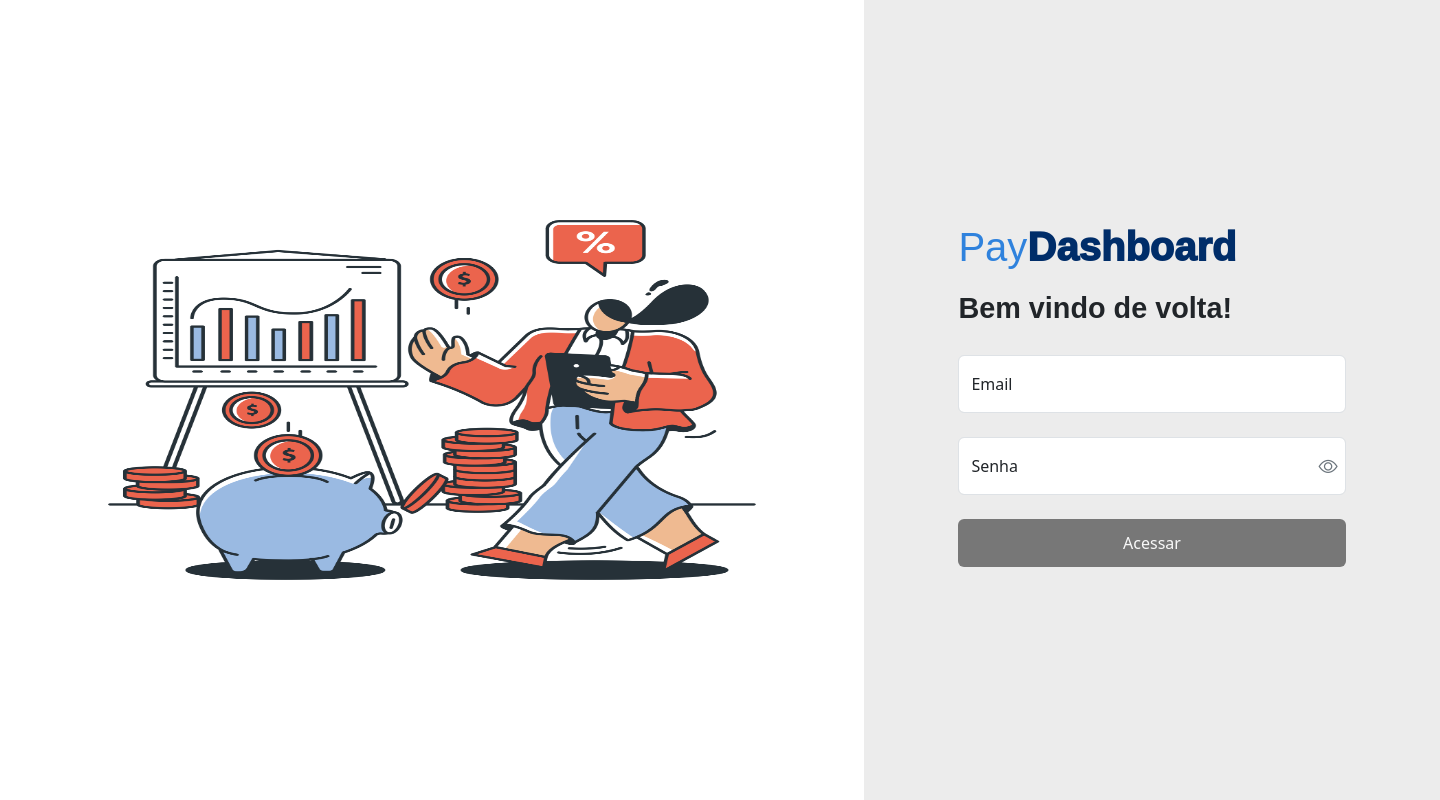
Login Page › should show error 500 message if server request fail
The width and height of the screenshot is (1440, 800).
Step 1. Type "teste@teste.com" into the field named "email" → (1152, 384), box [958,355,1345,413]
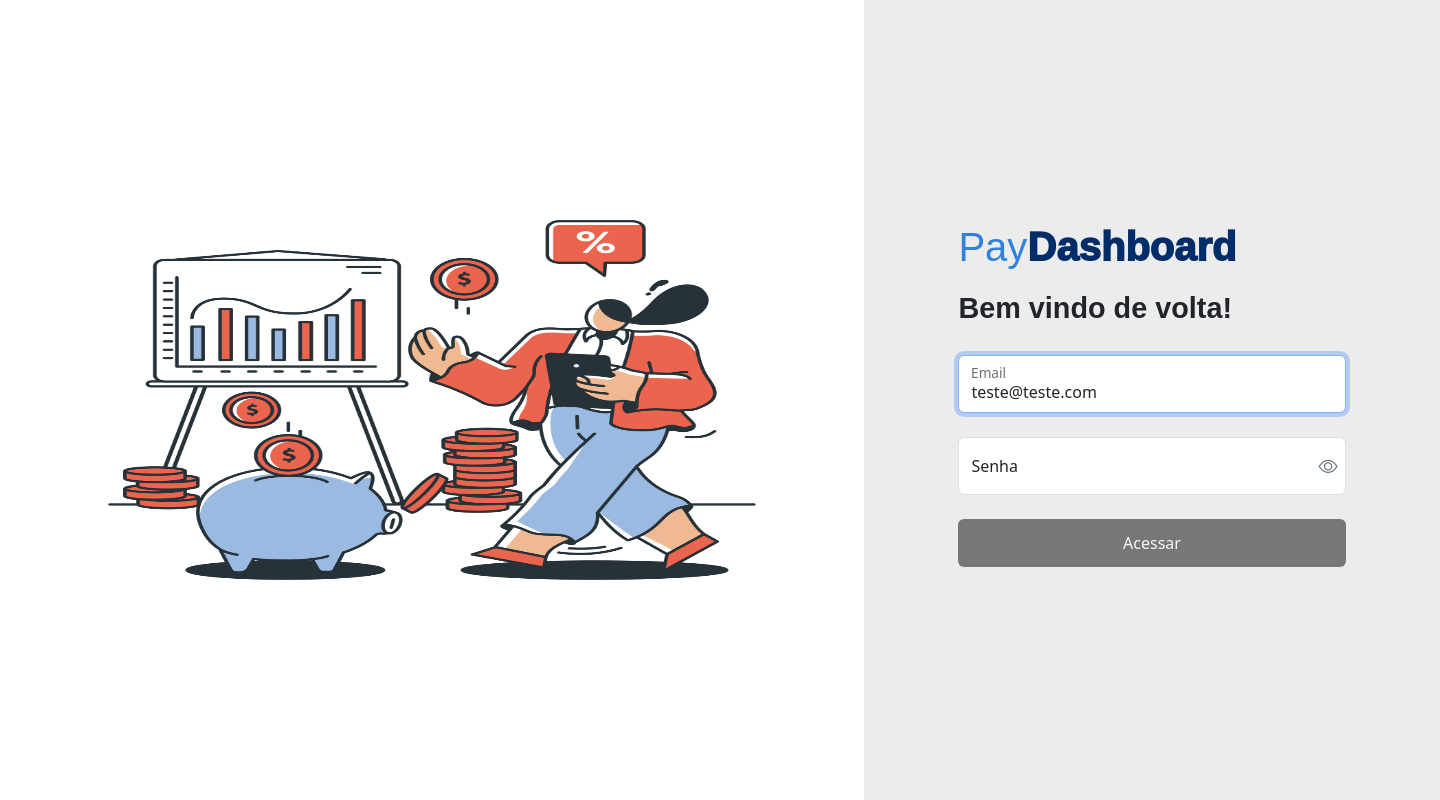
Step 2. Type "testpassword123" into the password field named "password" → (1152, 466), box [958,437,1345,495]
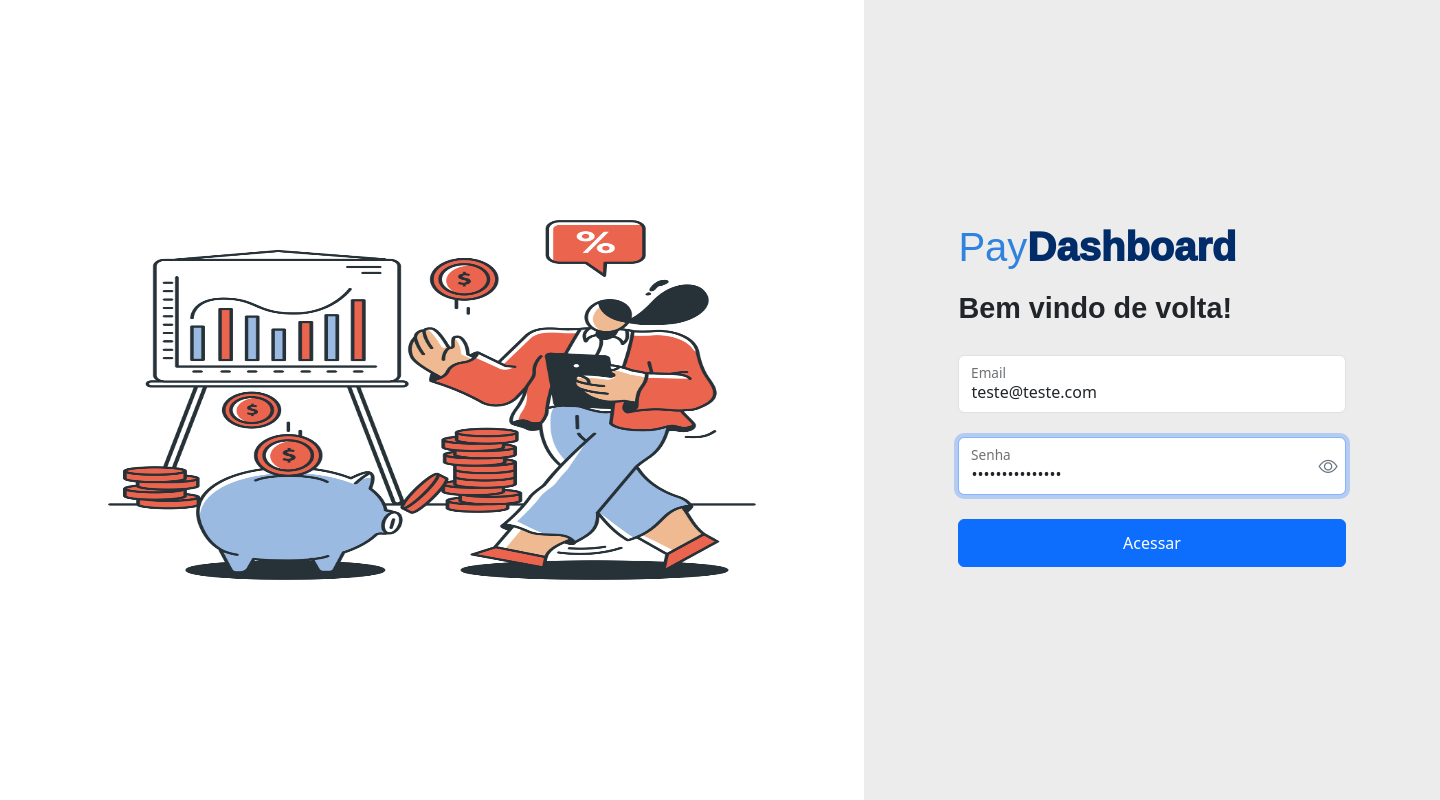
expect the submit button is enabled: met
Step 3. Click the submit button → (1152, 543), box [958,519,1345,567]
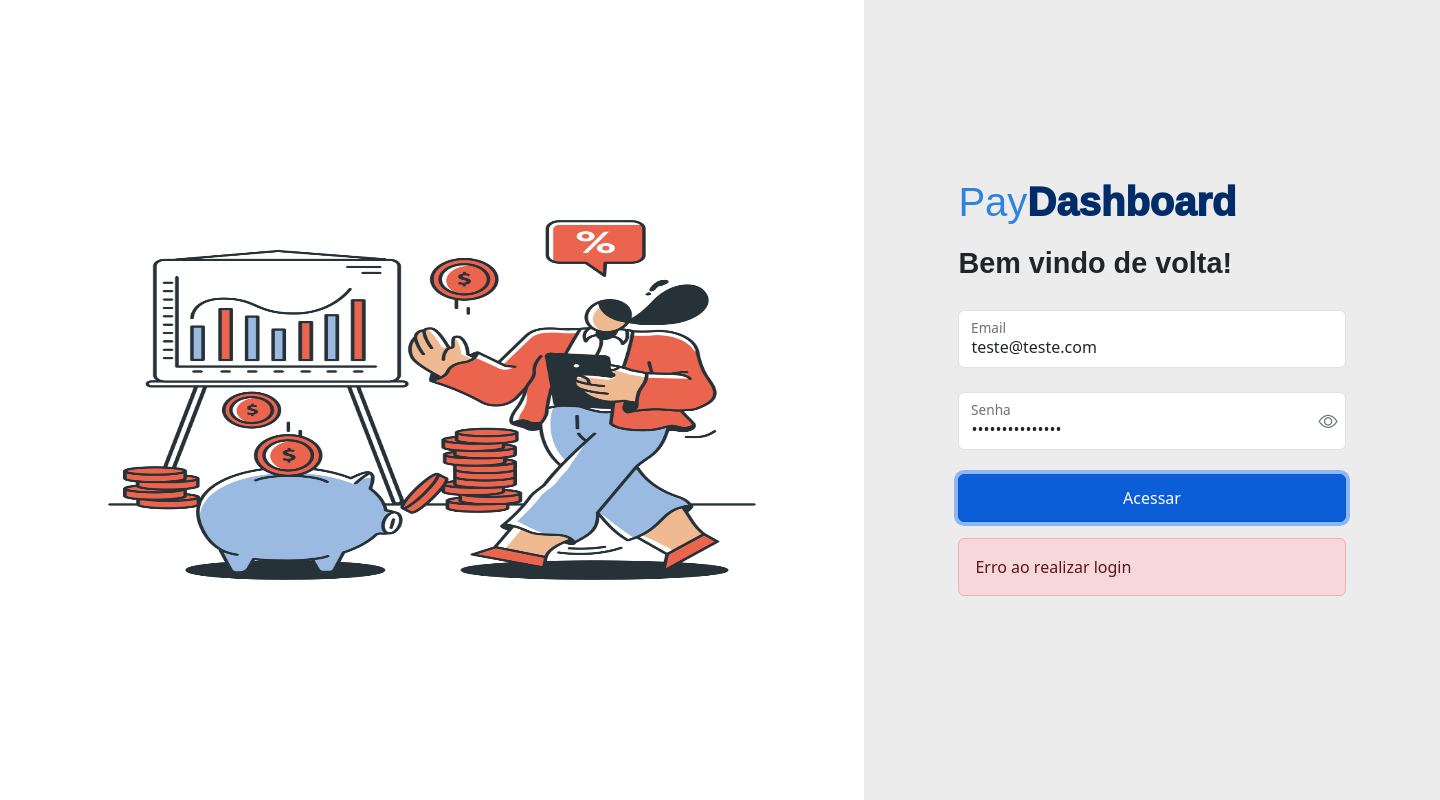
expect the message "Erro ao realizar login" is shown: met, box [958,538,1346,596]
expect the message with class "alert-danger" reads "Erro ao realizar login": met, box [958,538,1345,596]
